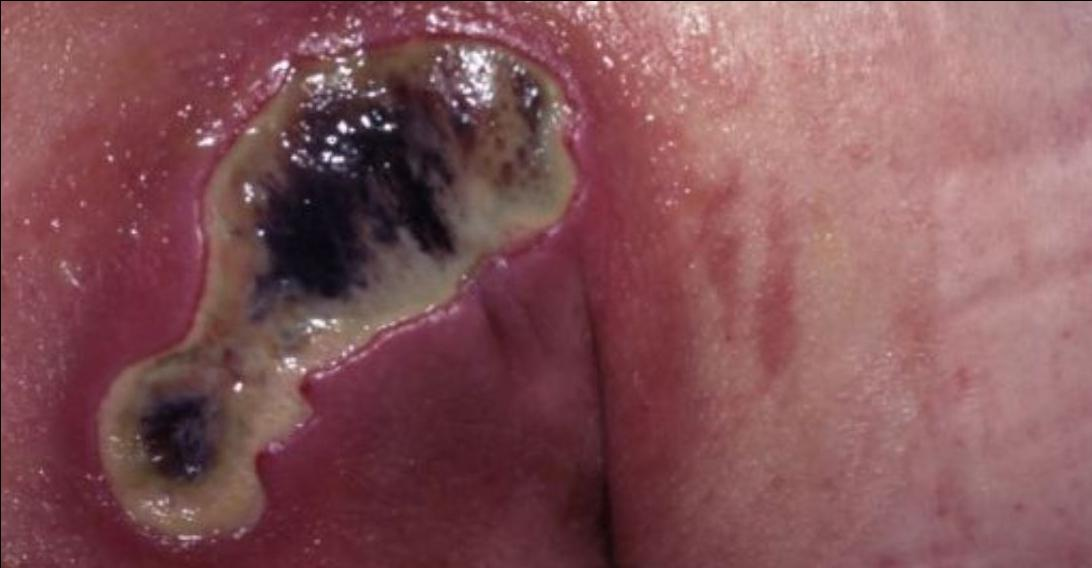Stage2: (96, 14, 685, 568)
